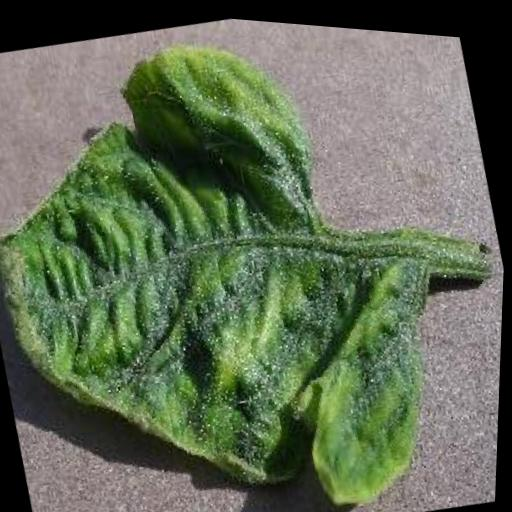Yellow Leaf Curl Virus: (0, 0, 472, 512)
